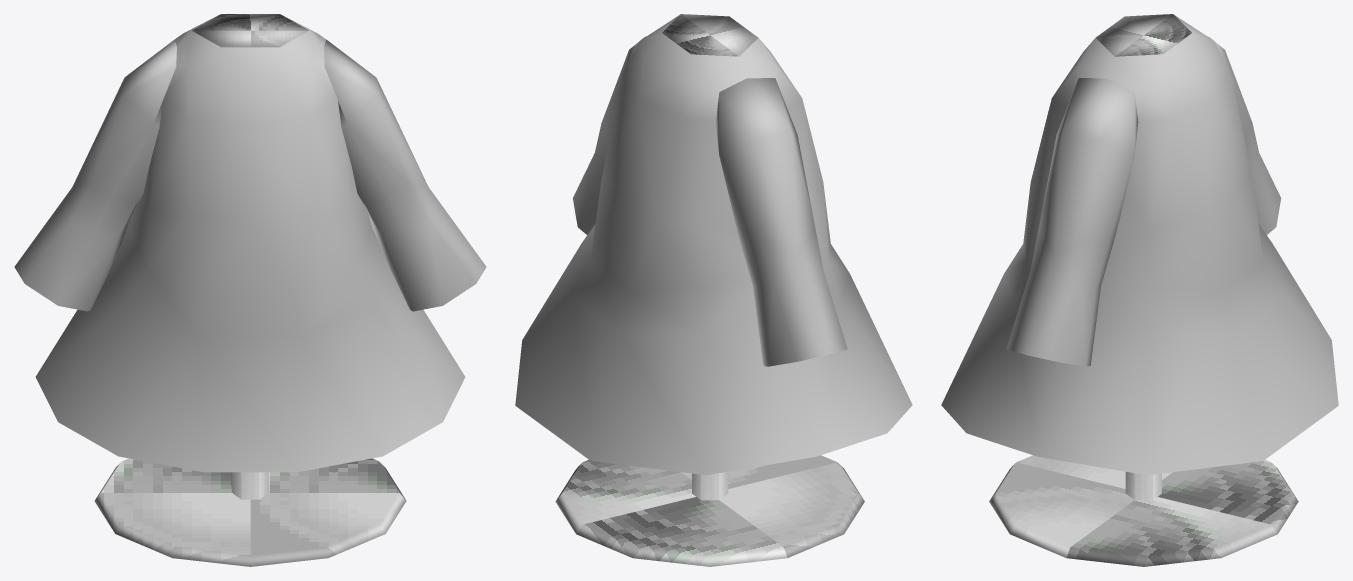
The model's file is mq_tops_onpL_grc.dae.
The picture shows the model from 3 angles, left to right: view 1: azimuth 30°, elevation 25°; view 2: azimuth 150°, elevation 25°; view 3: azimuth 270°, elevation 25°; orthographic projection.
Visible parts, largest first — view 1: mq_tops_onpL_grc; view 2: mq_tops_onpL_grc; view 3: mq_tops_onpL_grc.
Part boxes in pixels (x1,y1,x2,y2): mq_tops_onpL_grc: (14, 14, 486, 566); mq_tops_onpL_grc: (515, 14, 912, 566); mq_tops_onpL_grc: (941, 14, 1338, 566).
Bounding box in the file's own units: 25.83 × 31.08 × 24.02.
2 materials, 2 textured.
